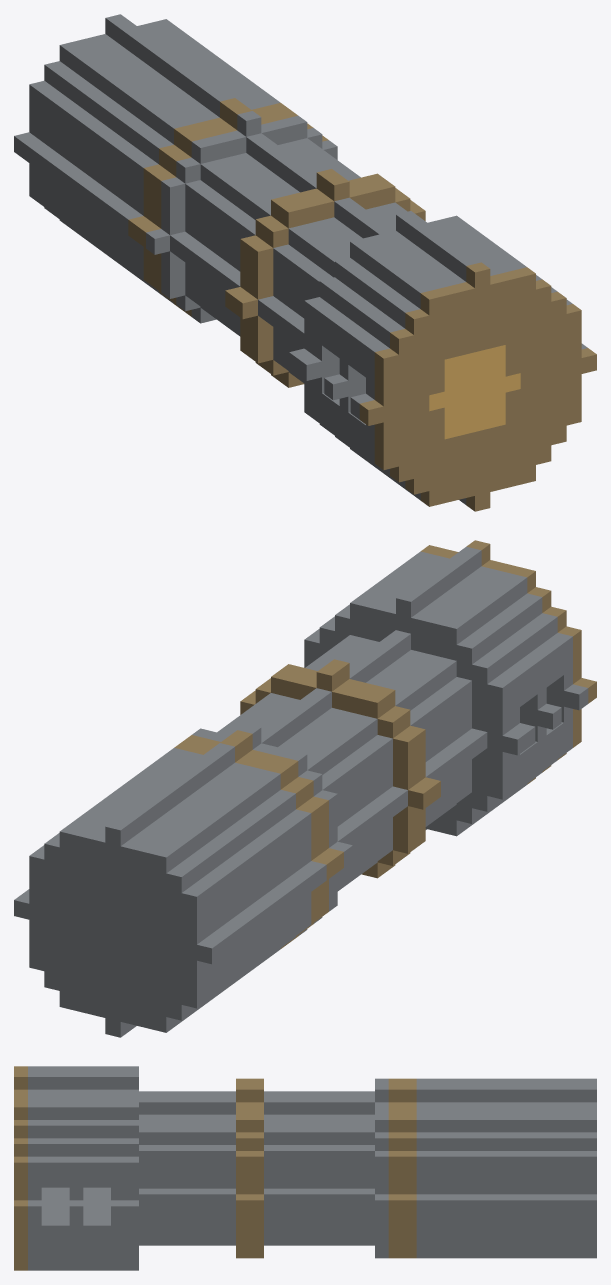
File: cannon_barrel.glb
3 renders of one model, top to bottom at view 1: azimuth 30°, elevation 25°; view 2: azimuth 150°, elevation 25°; view 3: azimuth 270°, elevation 25°, orthographic. The views are drawn at different scales.
Size of the model in its own units: 15 by 15 by 42.
